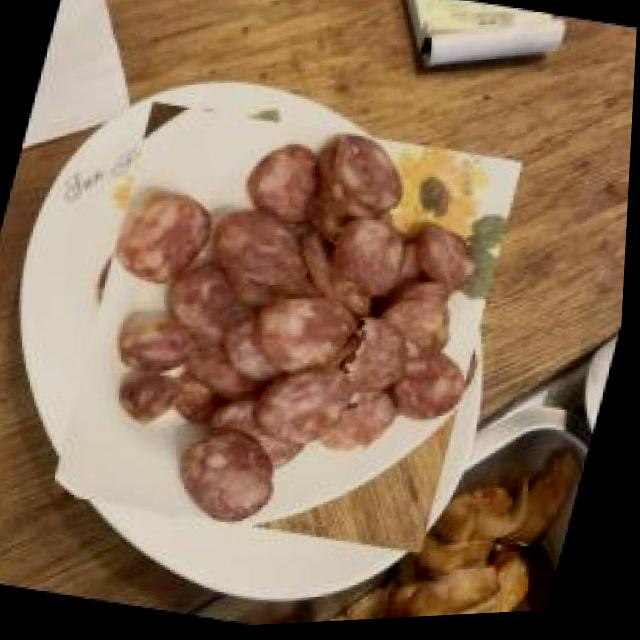chinese_sausage: (50, 91, 531, 573)
